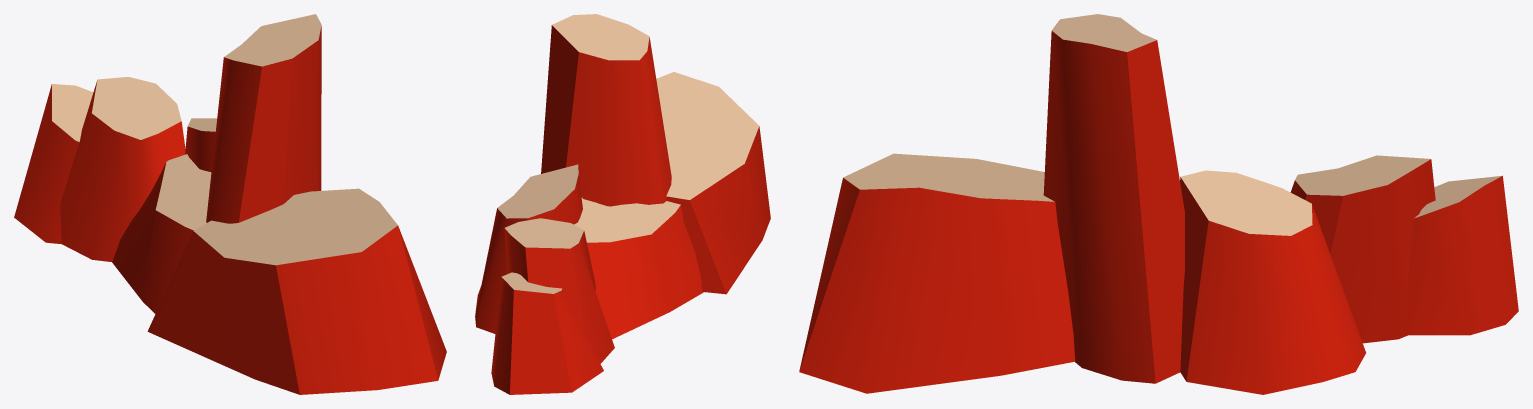
File: Small_Mountain_02.fbx
3 views of the same model, side by side, from view 1: azimuth 30°, elevation 25°; view 2: azimuth 150°, elevation 25°; view 3: azimuth 270°, elevation 25° (orthographic). The views are drawn at different scales.
Parts seen in each view (by area): view 1: Small_Mountain_02; view 2: Small_Mountain_02; view 3: Small_Mountain_02.
Boxes of the visible parts, box(x1,y1,x2,y2) form: Small_Mountain_02: box(14, 14, 446, 394); Small_Mountain_02: box(475, 14, 770, 394); Small_Mountain_02: box(799, 14, 1518, 394).
Bounding box in the file's own units: 1473 × 1817 × 3596.
